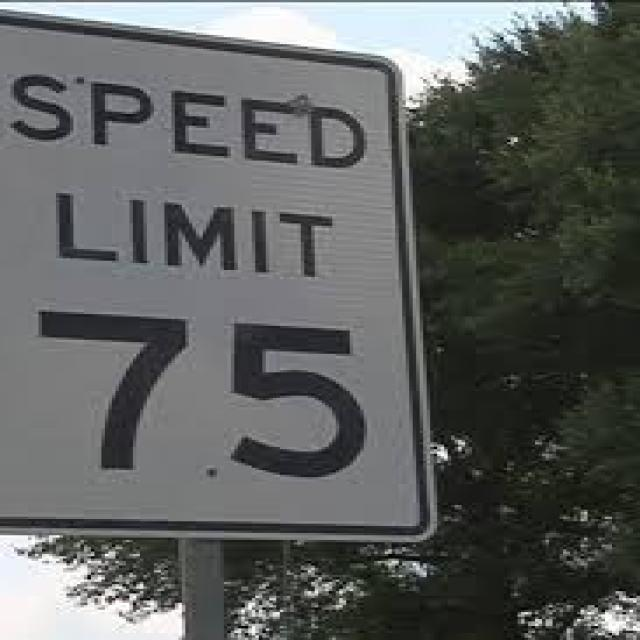speedLimit75: (4, 14, 437, 540)
